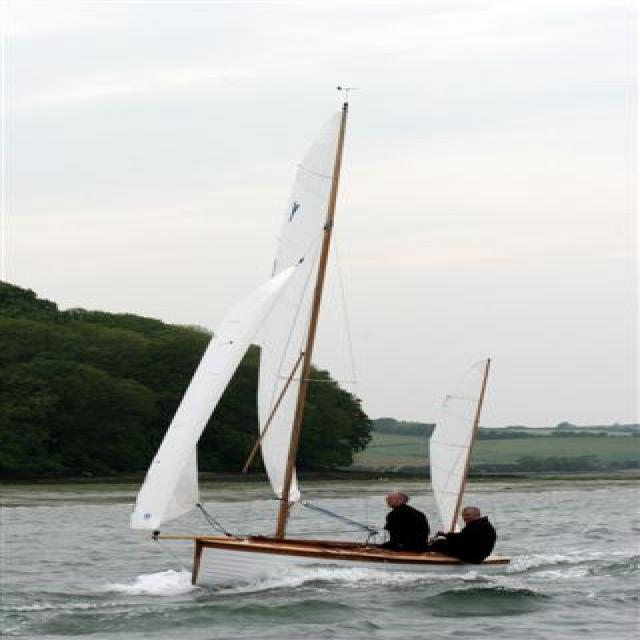Ship: (106, 90, 548, 627)
